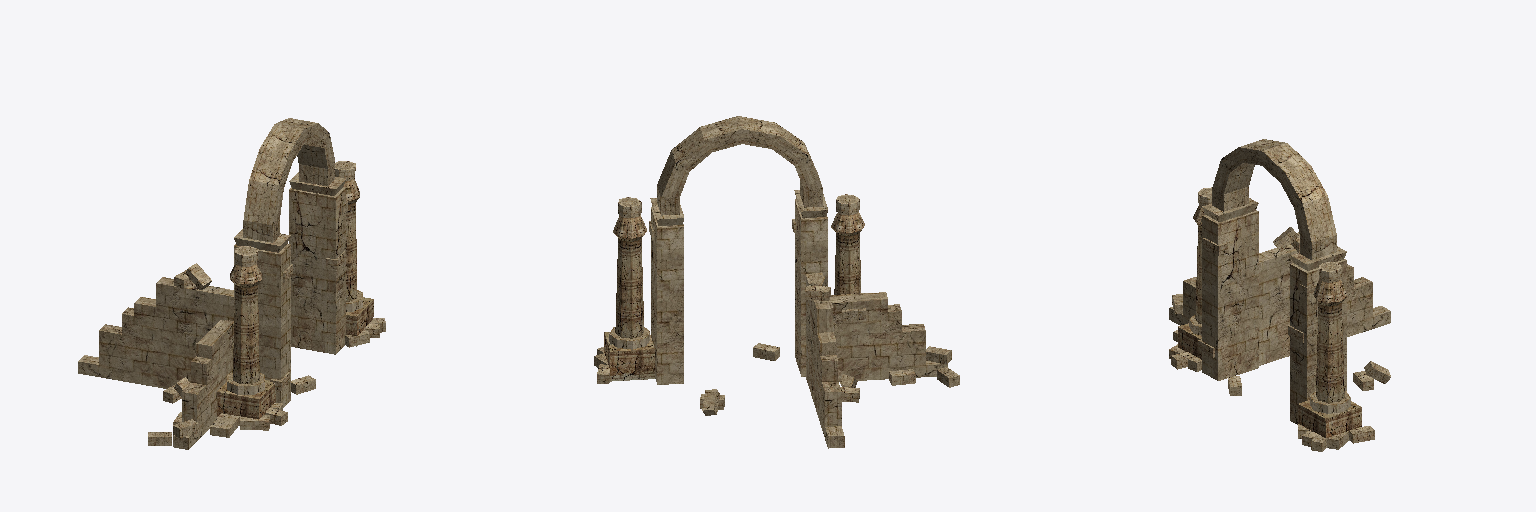
3 views of the same model, side by side, from view 1: azimuth 30°, elevation 25°; view 2: azimuth 150°, elevation 25°; view 3: azimuth 270°, elevation 25° (orthographic).
Visible parts, largest first — view 1: Box01_0; view 2: Box01_0; view 3: Box01_0.
Part boxes in pixels (left/top/right/bottom): Box01_0: left=78, top=118, right=385, bottom=449; Box01_0: left=594, top=116, right=959, bottom=448; Box01_0: left=1169, top=139, right=1390, bottom=451.
Size of the model in its own units: 9.7 by 7.67 by 6.24.
2 materials, 2 textured.